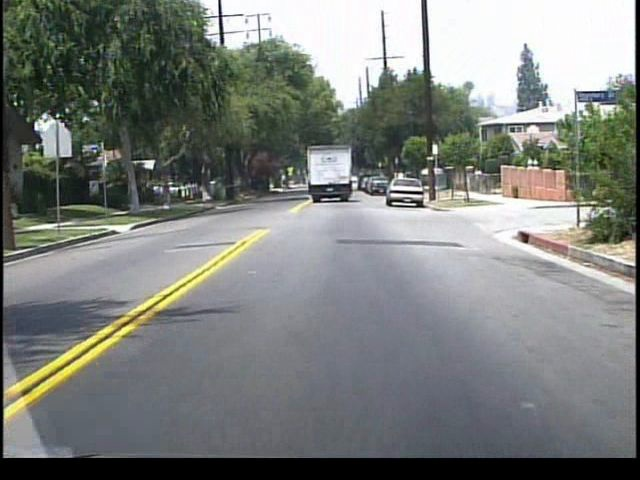person: (472, 166, 484, 194)
